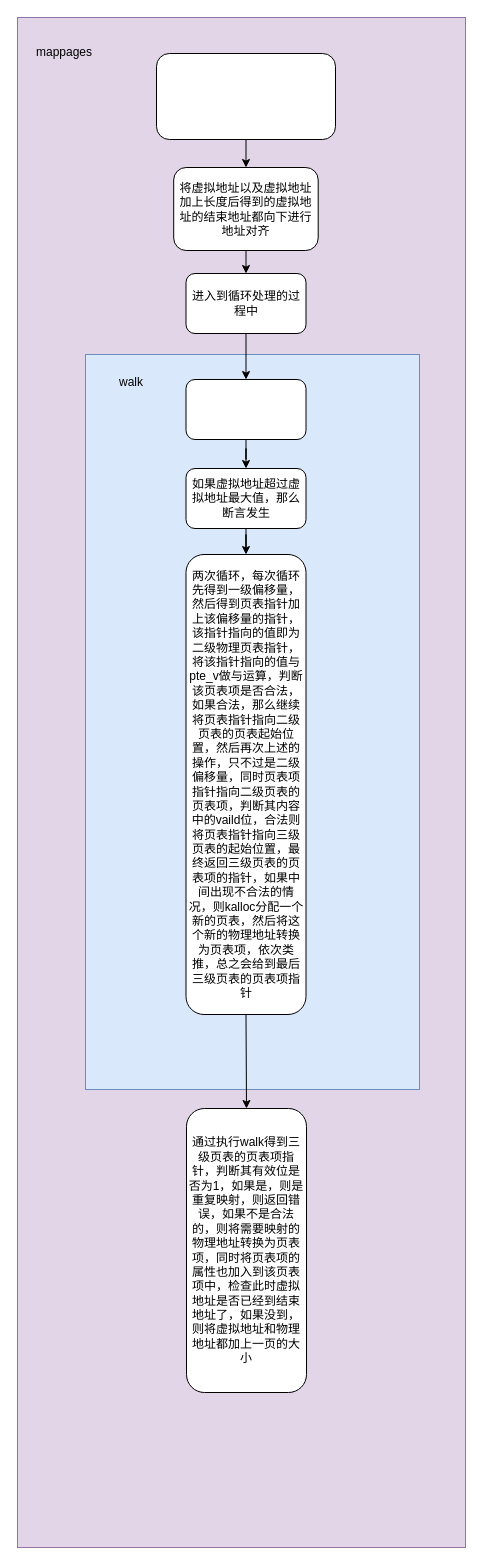
Some shapes in this 483 by 1565 pixel diagram are drawn without their labels. The centre of each missing label's shape, as x and y in pixels:
argv: 页表指针 虚拟地址 分配的信号: point 245,409
argv: 页表指针 虚拟地址 地址的长度（字节为单位） 物理地址 页的属性: point 246,96
